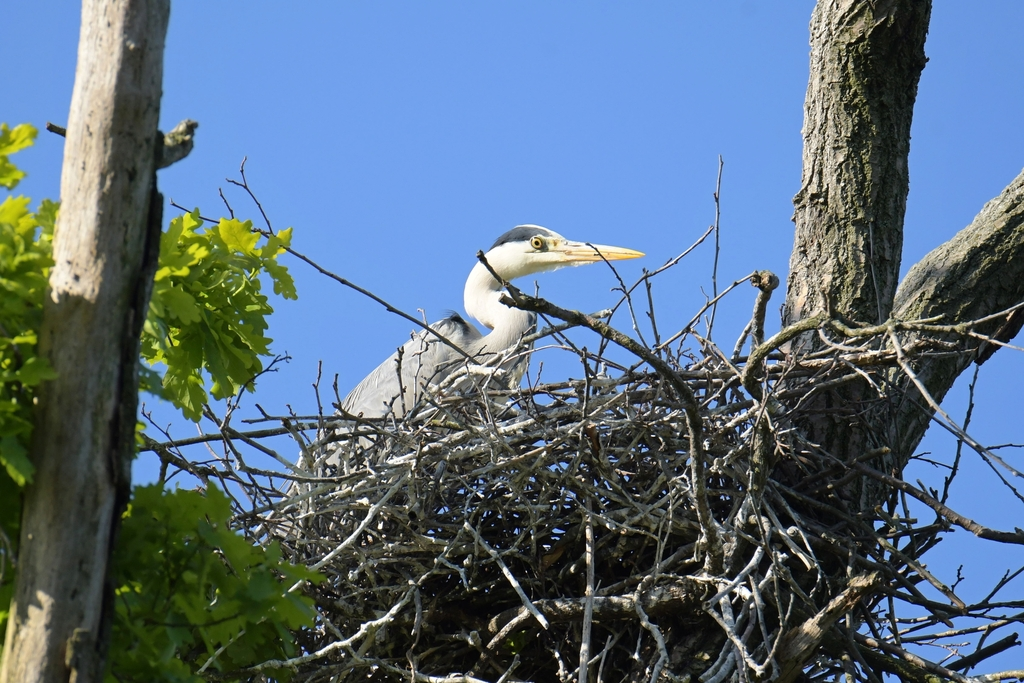heron: (310, 221, 644, 439)
